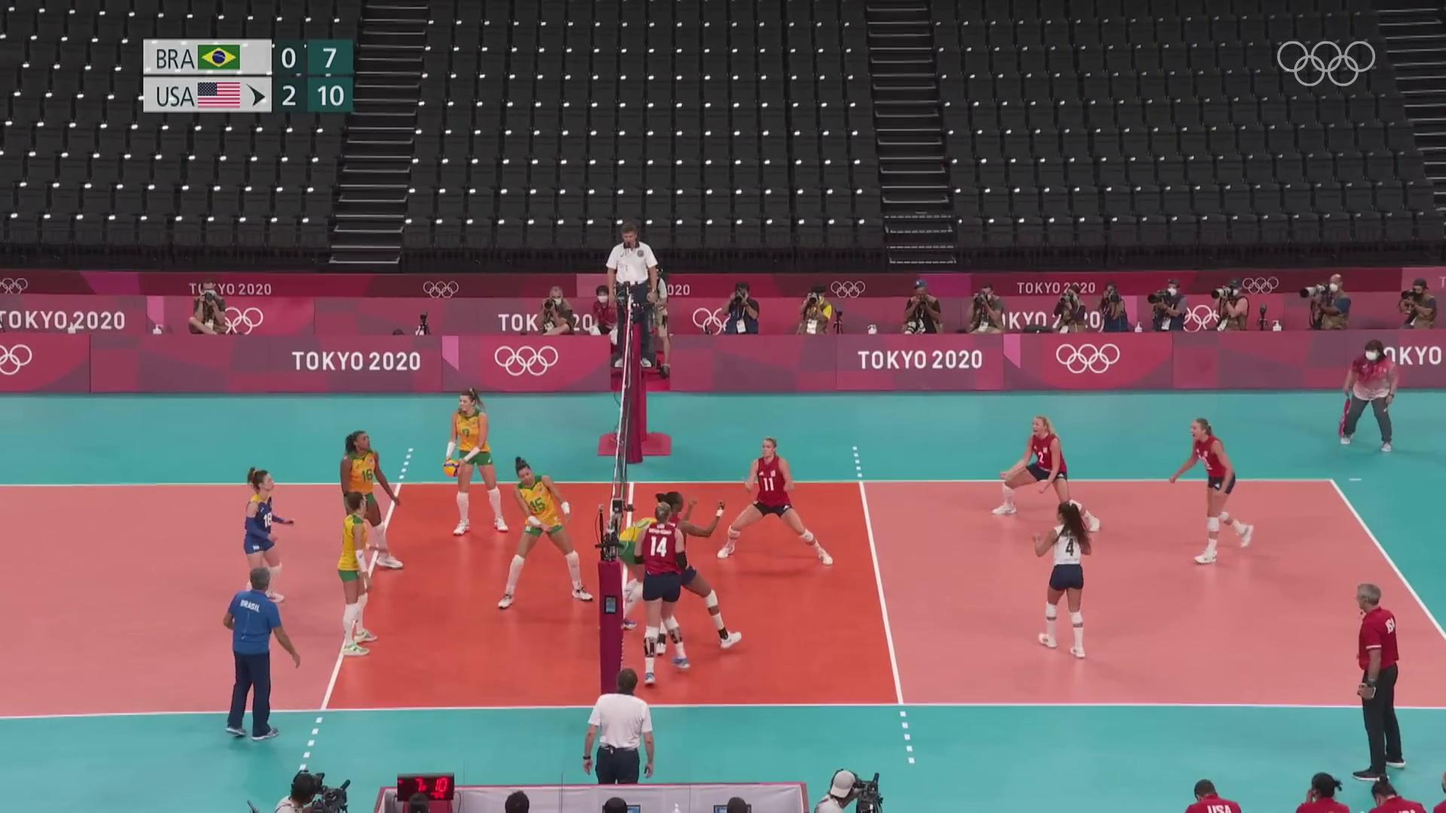player: (718, 438, 836, 567), (652, 491, 741, 651), (499, 457, 590, 603), (1172, 418, 1257, 563), (639, 503, 695, 687), (991, 415, 1083, 520), (445, 390, 508, 537), (338, 432, 402, 573), (1036, 502, 1093, 656), (330, 493, 383, 657), (236, 469, 294, 603), (620, 514, 676, 629)
refree: (582, 668, 657, 799), (606, 224, 660, 370), (1339, 340, 1401, 449)
